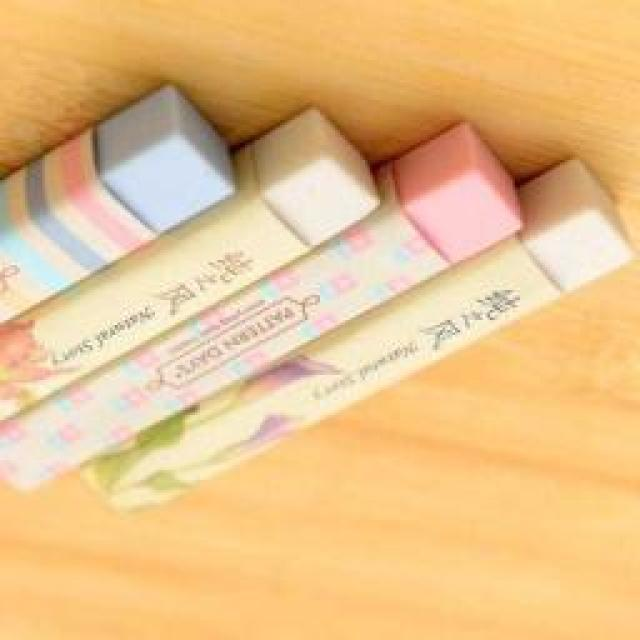Silgi: (0, 78, 634, 516)
